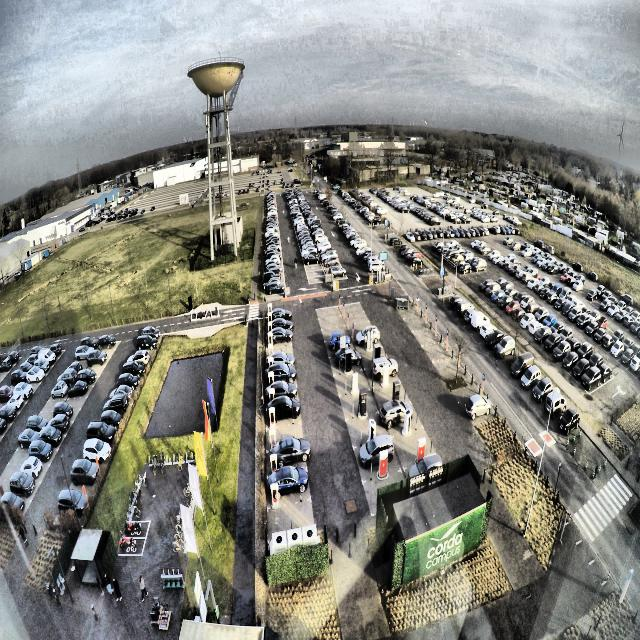cabinet: (272, 525, 317, 550)
car: (268, 465, 309, 502), (270, 436, 314, 465), (266, 395, 302, 424), (264, 381, 298, 403), (265, 363, 297, 384), (265, 351, 296, 369), (267, 326, 295, 344), (268, 316, 295, 332), (269, 308, 292, 322)
parking: (268, 499, 315, 541), (267, 471, 311, 507), (267, 445, 307, 476), (266, 422, 305, 451), (266, 402, 302, 429), (266, 366, 297, 390), (266, 386, 299, 406), (266, 354, 295, 371), (265, 344, 293, 359), (265, 313, 290, 328), (266, 334, 292, 348), (265, 323, 291, 337)
supercharger: (270, 484, 279, 507), (268, 408, 276, 429), (270, 454, 278, 474), (269, 429, 277, 448), (268, 372, 274, 386), (269, 389, 274, 403), (267, 303, 273, 314), (268, 357, 273, 369), (268, 345, 273, 356), (268, 333, 273, 343), (268, 322, 272, 331), (268, 313, 272, 321)
